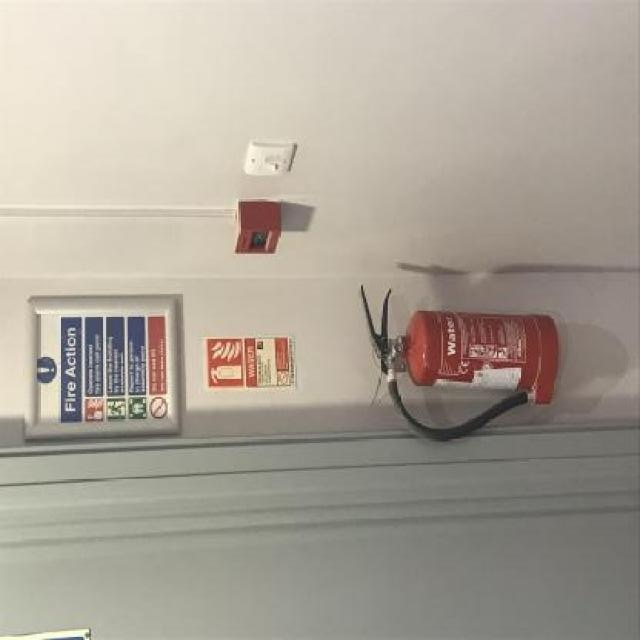fire extinguisher: (358, 284, 560, 441)
